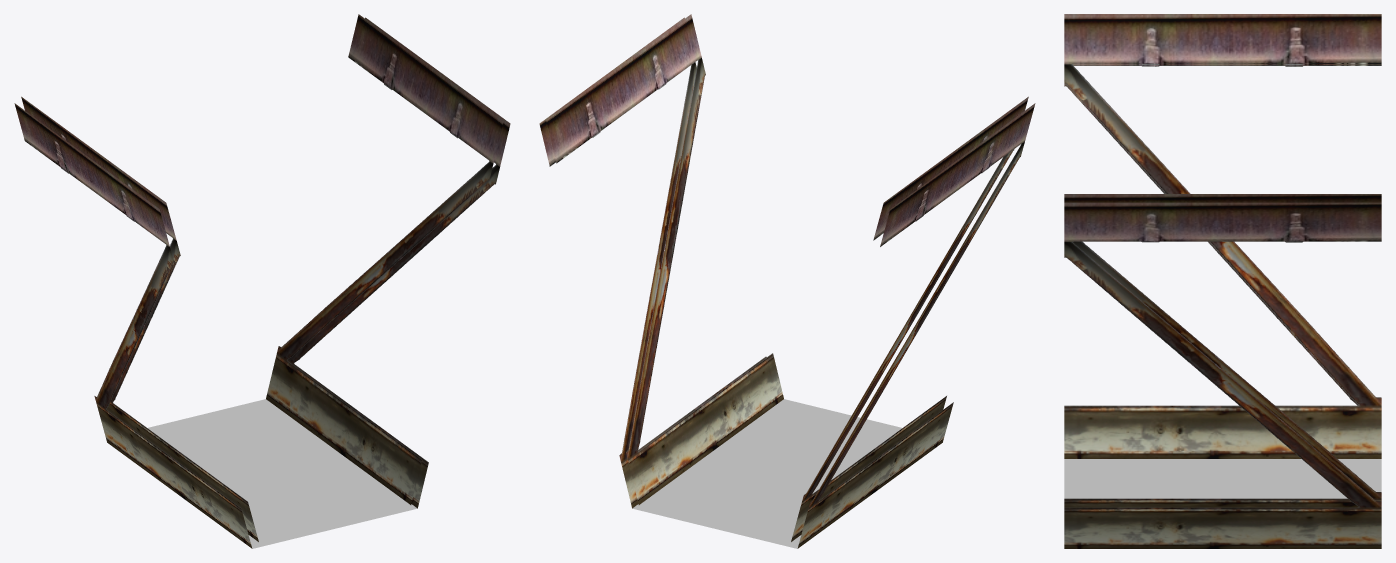
Rendered from Girders_1mts.fbx.
The picture shows the model from 3 angles, left to right: view 1: azimuth 30°, elevation 25°; view 2: azimuth 150°, elevation 25°; view 3: azimuth 270°, elevation 25°; orthographic projection. The views are drawn at different scales.
Parts seen in each view (by area): view 1: girder (×4), solid bar; view 2: girder (×4), solid bar; view 3: girder (×4), solid bar.
Part boxes in pixels (left/top/right/bottom): girder (×4): left=14, top=14, right=510, bottom=548; solid bar: left=147, top=399, right=417, bottom=548; girder (×4): left=539, top=14, right=1035, bottom=548; solid bar: left=632, top=399, right=902, bottom=548; girder (×4): left=1064, top=14, right=1381, bottom=548; solid bar: left=1064, top=459, right=1381, bottom=498.
Bounding box in the file's own units: 139 × 140 × 100.
